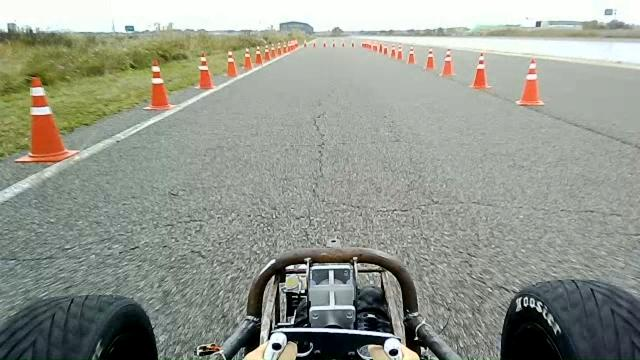red cone: (14, 75, 80, 163), (142, 58, 176, 110), (516, 58, 544, 106), (469, 52, 492, 89), (194, 52, 216, 90), (438, 48, 456, 77), (225, 50, 238, 77), (242, 47, 254, 71), (424, 48, 435, 70), (254, 45, 264, 65), (406, 45, 416, 64), (263, 45, 271, 61), (396, 43, 403, 60)
